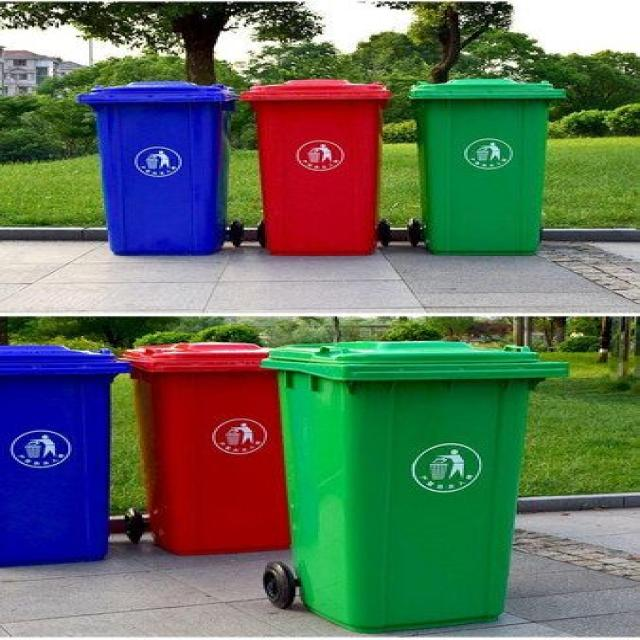garbage_bin: (258, 337, 566, 633), (114, 342, 292, 554), (0, 343, 129, 568), (403, 76, 566, 254), (76, 80, 233, 254), (235, 78, 388, 256)
